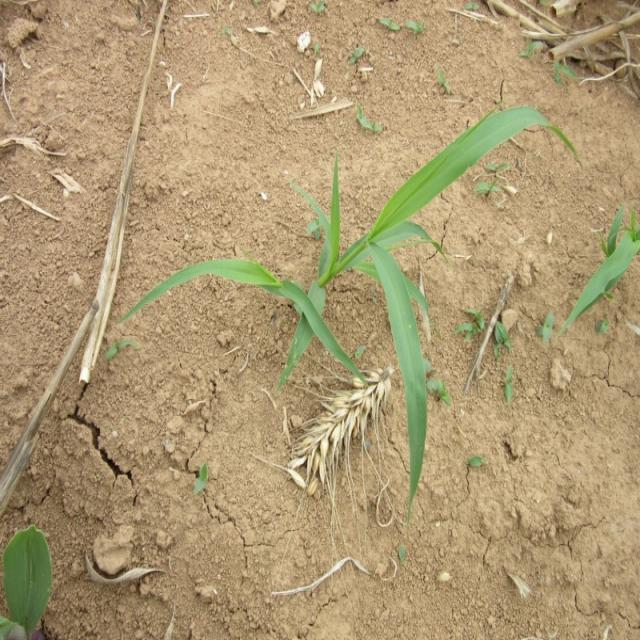bg: (113, 96, 582, 519)
